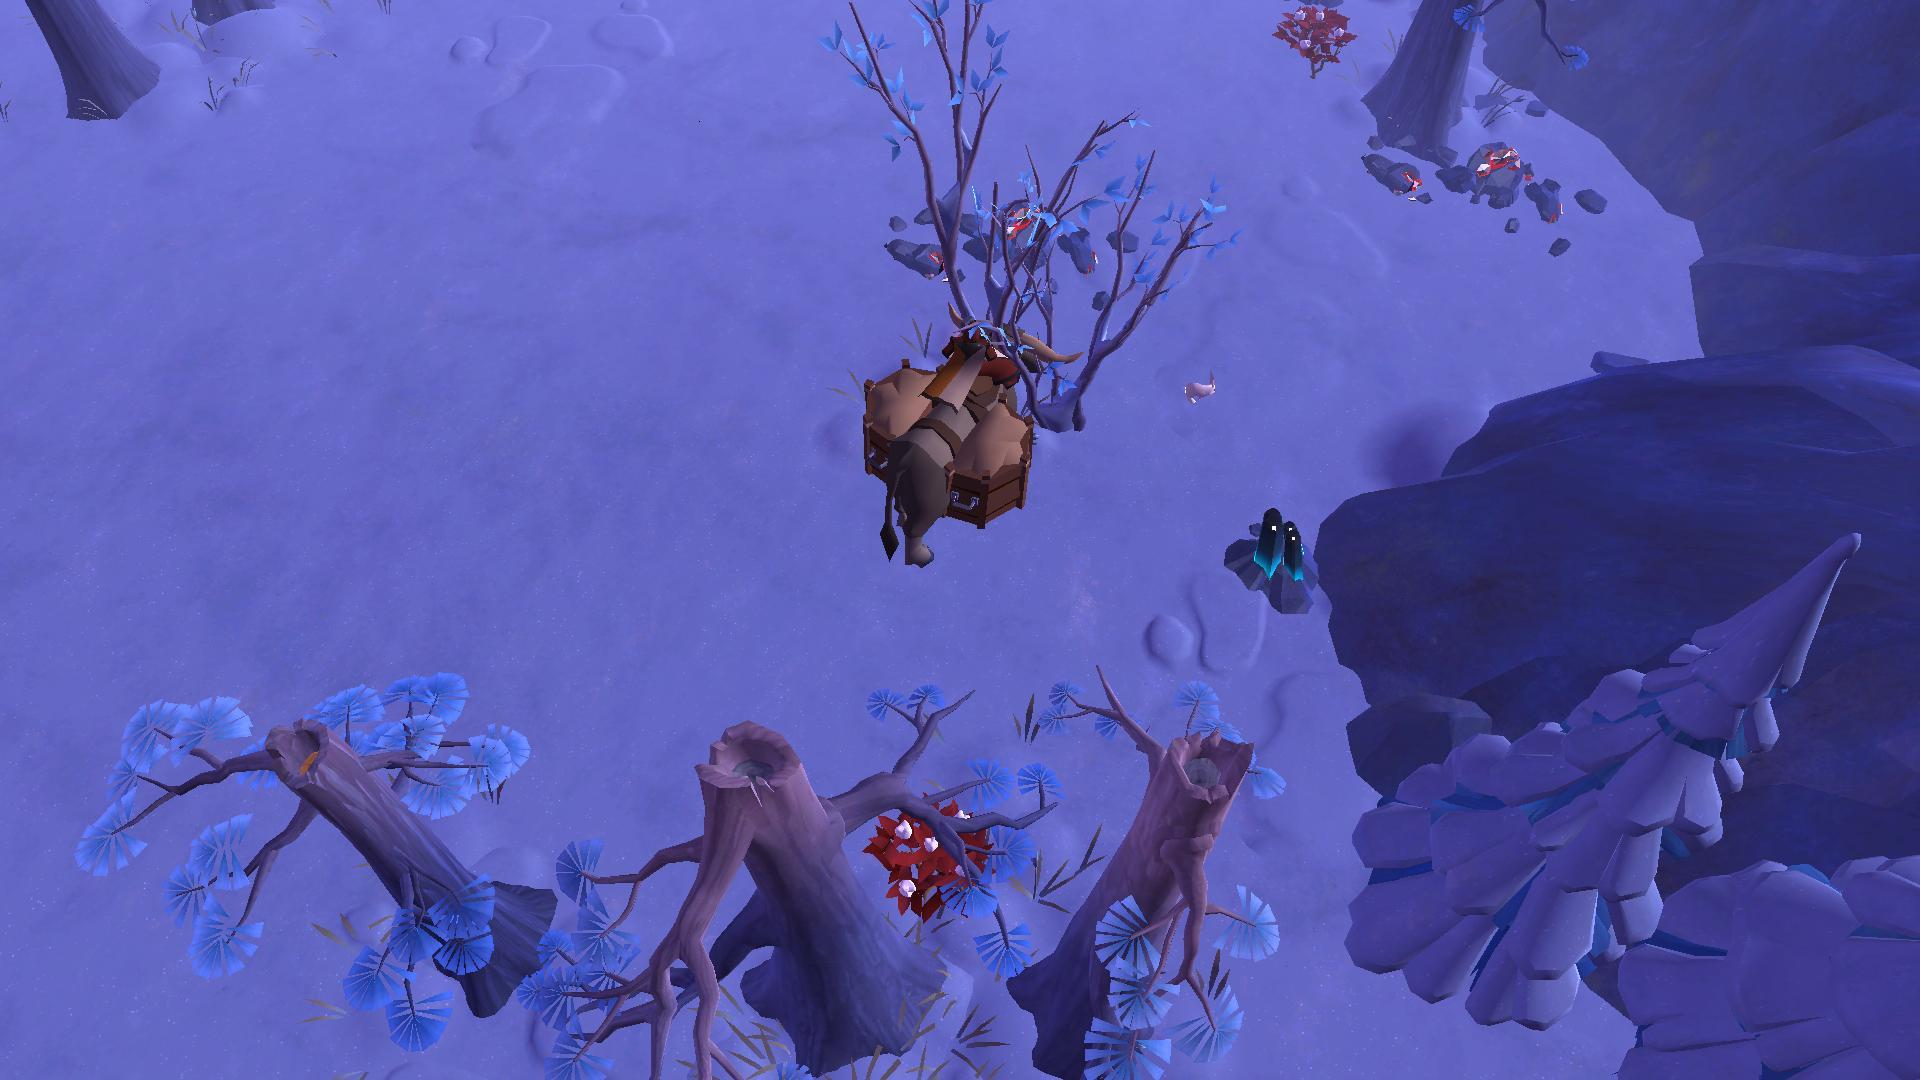fiber_t5: (864, 795, 1005, 914), (1262, 1, 1358, 74)
ore_t4: (1241, 501, 1307, 587)
